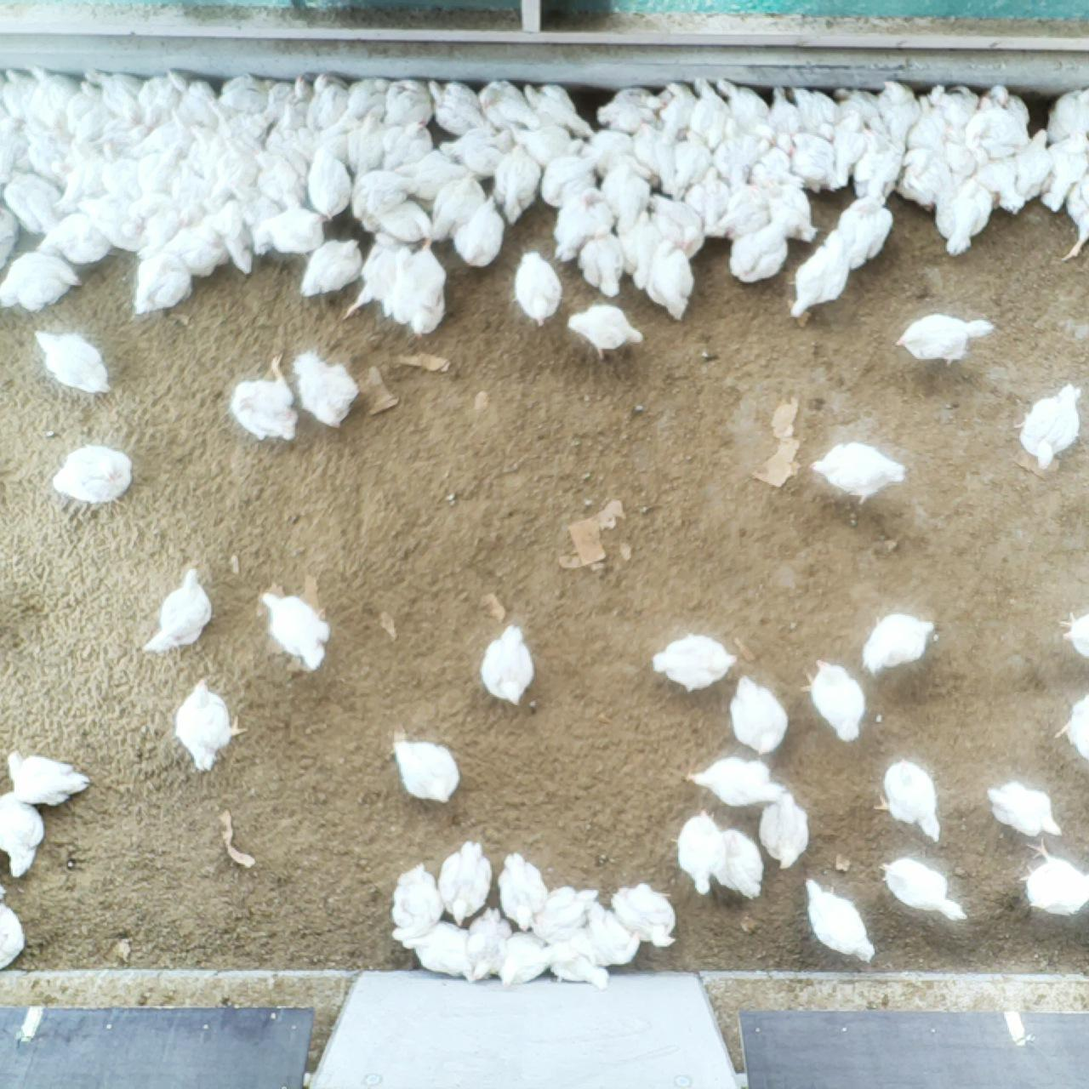chicken: (168, 674, 248, 778), (805, 440, 907, 507), (781, 230, 850, 329), (801, 876, 877, 965), (141, 566, 214, 658), (227, 350, 299, 443), (1012, 836, 1089, 918), (1016, 381, 1085, 472), (879, 855, 969, 924), (872, 758, 944, 844), (891, 311, 995, 370), (258, 589, 331, 673), (799, 657, 867, 745), (680, 755, 788, 810), (1, 745, 92, 809), (32, 325, 113, 396), (651, 630, 740, 694), (292, 350, 362, 430), (0, 248, 83, 315), (50, 441, 135, 505), (727, 674, 791, 757), (983, 779, 1065, 841), (479, 621, 537, 708), (396, 245, 448, 341), (860, 611, 934, 678), (757, 789, 815, 874), (609, 881, 681, 948), (566, 302, 645, 363), (834, 192, 893, 273), (341, 244, 403, 321), (392, 738, 461, 807), (388, 860, 444, 945), (1037, 128, 1089, 217), (443, 839, 495, 927), (935, 178, 989, 260), (580, 895, 642, 966), (440, 126, 519, 181), (494, 849, 546, 932), (450, 194, 506, 271), (550, 188, 609, 261), (677, 811, 727, 897), (130, 255, 195, 321), (0, 789, 47, 880), (513, 249, 565, 331), (294, 241, 365, 301), (401, 920, 472, 978), (301, 145, 356, 219), (520, 80, 591, 137), (464, 908, 515, 987), (532, 886, 600, 945), (430, 174, 488, 243), (716, 825, 769, 900), (76, 193, 144, 251), (727, 225, 790, 286), (82, 66, 144, 127), (653, 239, 696, 325), (157, 226, 226, 279), (208, 202, 256, 278), (577, 227, 627, 299), (395, 148, 468, 197), (426, 78, 485, 138), (254, 207, 326, 256), (972, 145, 1023, 214), (775, 134, 840, 187), (596, 86, 664, 136), (502, 144, 544, 224), (764, 181, 817, 243), (165, 65, 218, 127), (648, 196, 704, 254), (37, 218, 106, 265), (6, 172, 60, 232), (477, 80, 540, 131), (494, 931, 548, 990), (351, 171, 416, 220), (898, 147, 949, 209), (51, 156, 107, 212), (602, 165, 650, 230), (635, 121, 676, 197), (713, 115, 756, 187), (549, 940, 612, 989), (929, 81, 978, 144), (19, 120, 65, 187), (170, 159, 213, 230), (688, 77, 730, 149), (711, 184, 771, 234), (1048, 691, 1089, 764), (591, 130, 653, 178), (512, 125, 584, 166), (685, 167, 731, 231), (251, 147, 300, 207), (379, 118, 433, 172), (716, 74, 768, 130), (827, 117, 868, 188), (854, 141, 901, 202), (876, 78, 919, 142), (1015, 128, 1053, 200), (364, 203, 436, 241), (1061, 168, 1089, 265), (265, 104, 310, 163), (31, 63, 78, 119), (979, 82, 1032, 131), (750, 138, 805, 185), (217, 74, 278, 115), (345, 112, 385, 174), (908, 93, 948, 155), (674, 131, 712, 195), (1044, 84, 1089, 138), (208, 149, 254, 201), (791, 84, 839, 133), (132, 73, 179, 123), (619, 211, 656, 272), (97, 124, 157, 161), (383, 79, 431, 125), (133, 147, 182, 192), (209, 93, 247, 151), (71, 103, 115, 153), (184, 120, 225, 173), (130, 123, 191, 157), (661, 82, 698, 138), (311, 72, 348, 128), (0, 895, 27, 970), (0, 112, 26, 188), (100, 154, 143, 197), (833, 84, 878, 125), (282, 73, 313, 131), (1054, 609, 1089, 660), (940, 138, 978, 180), (769, 86, 802, 134), (4, 65, 37, 109), (348, 77, 385, 114)
